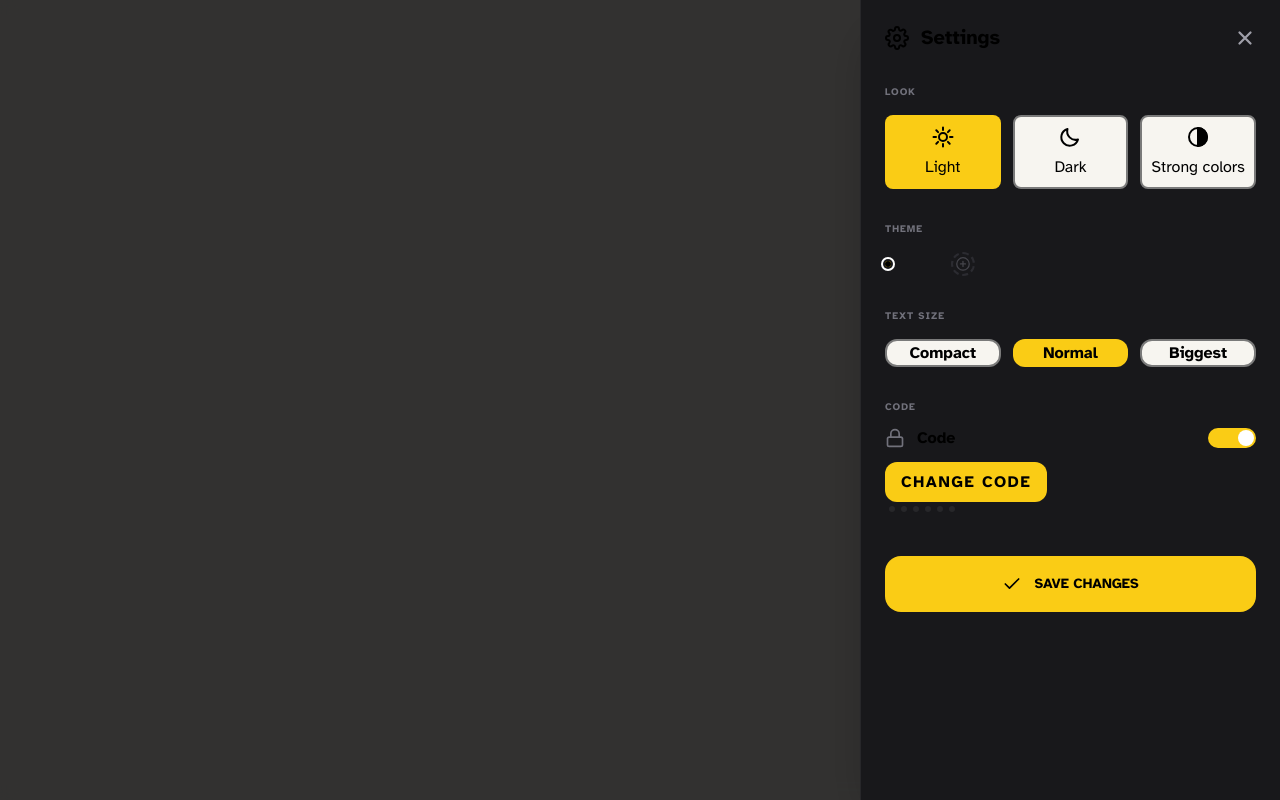
Scenario: SettingsModal: security › asks for the current Secret Code before changing it
Click the button "Change code": (966, 482) [885,462,1047,502]
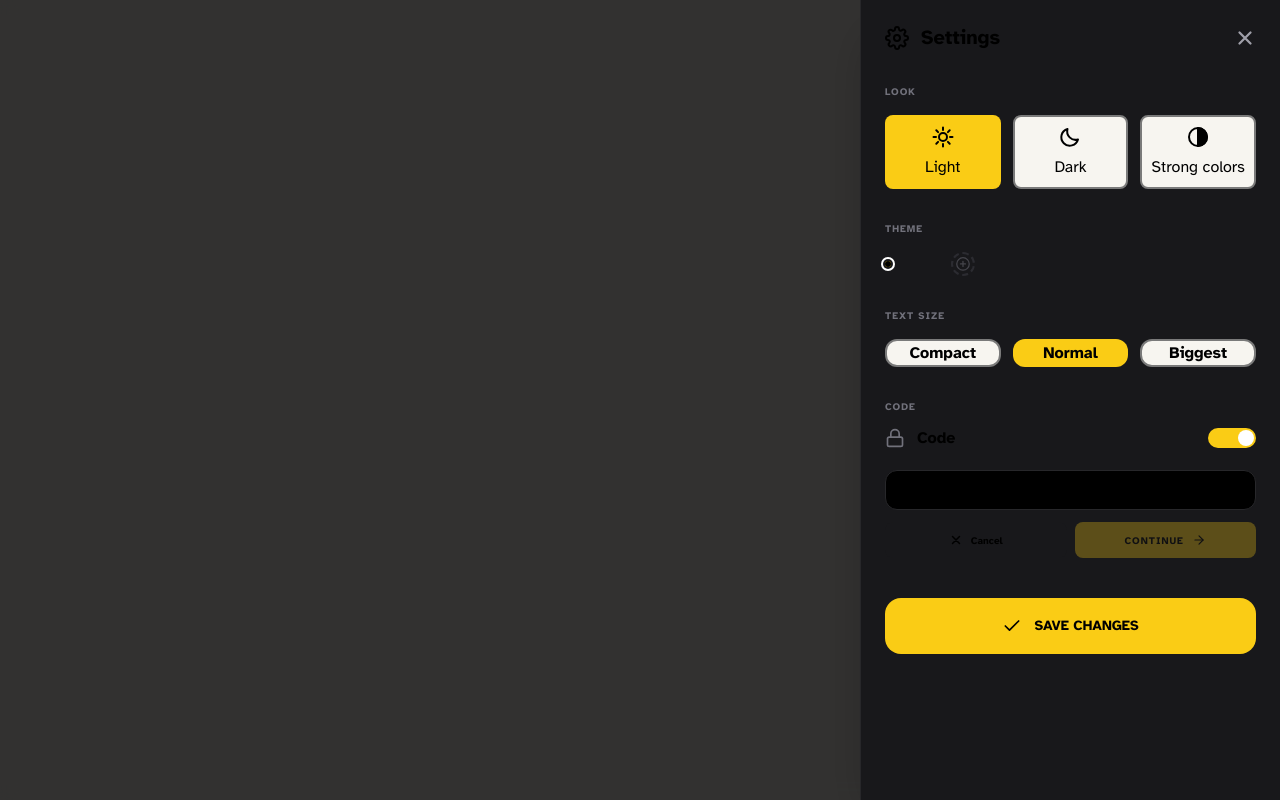
Expected: the password field with placeholder "Enter current code" is shown, [885,470,1256,510]
